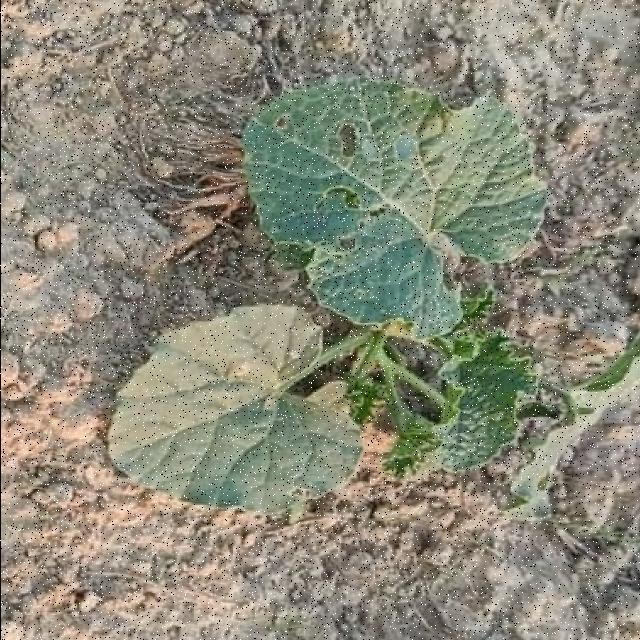plant: (107, 79, 640, 519)
